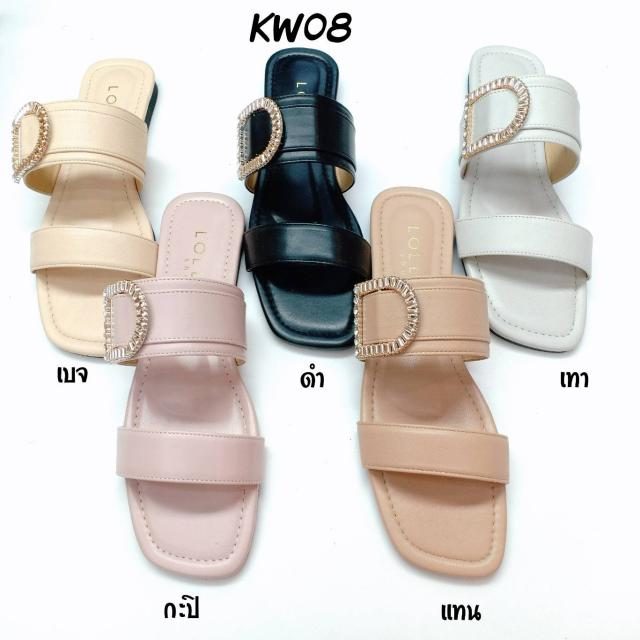bej: (35, 58, 165, 366)
black: (248, 44, 376, 350)
grey: (459, 43, 594, 351)
kapi: (125, 190, 269, 581)
tan: (354, 185, 504, 576)
